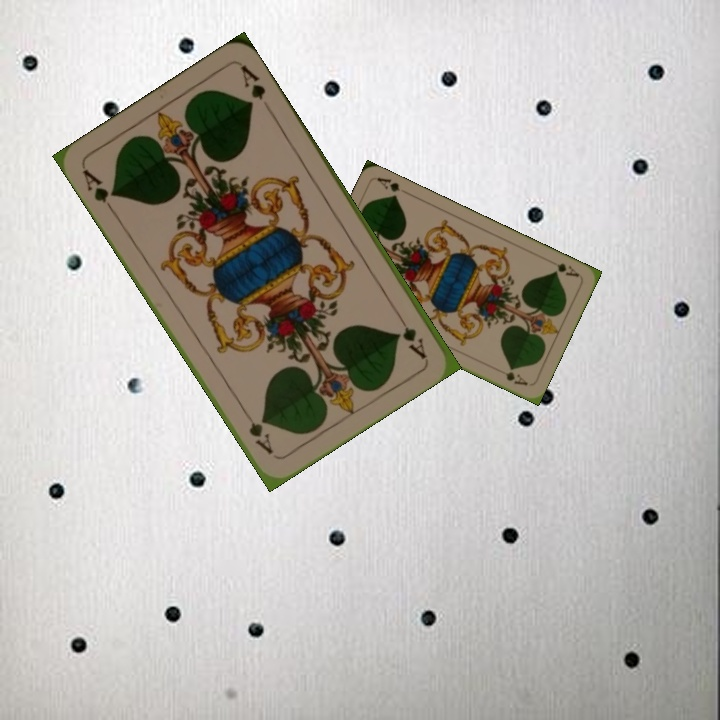GA: (78, 165, 119, 216), (392, 307, 429, 362), (544, 255, 582, 279)
